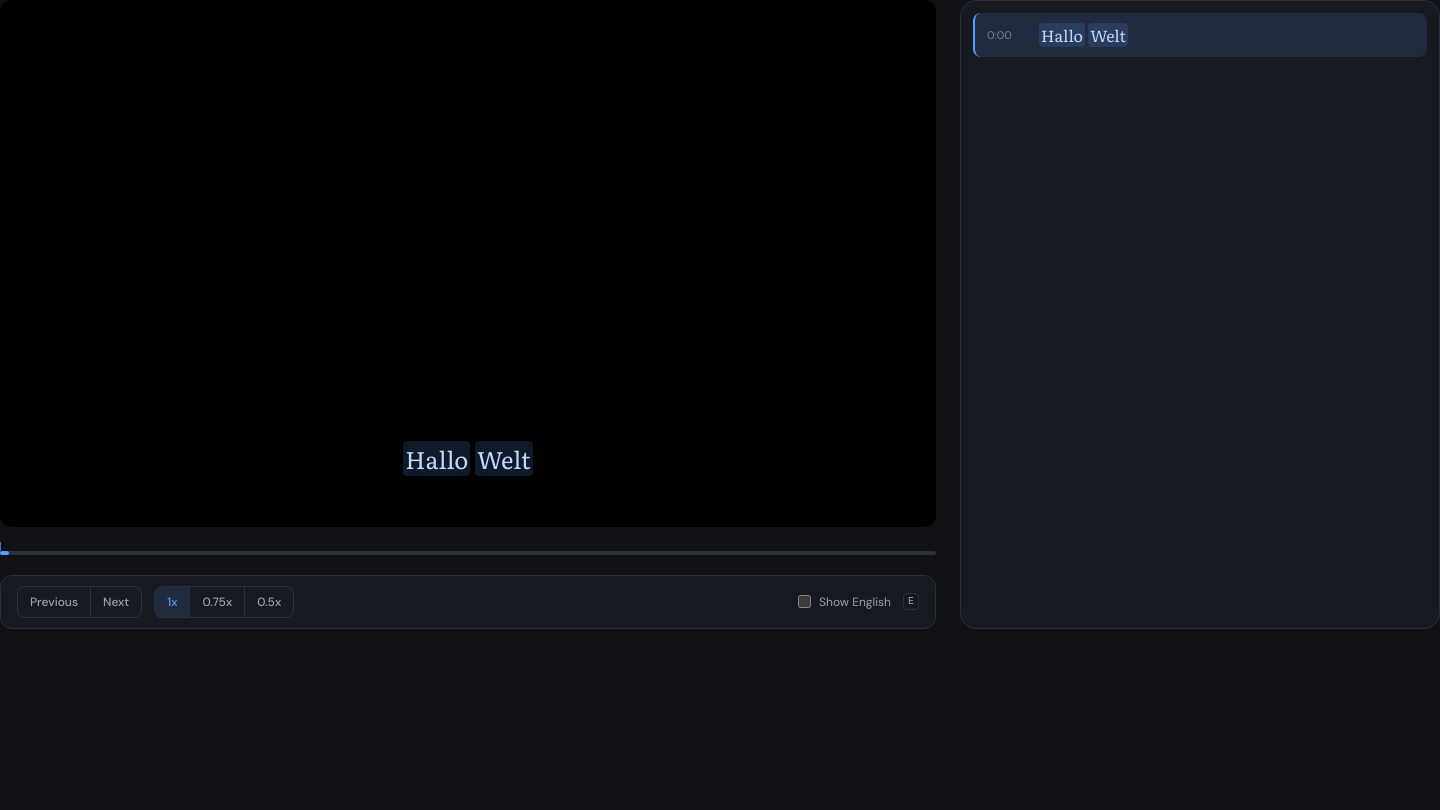
Scenario: video overlay › the card sits on the video and closes with × or Escape
This screenshot has width=1440, height=810.
Click the 2nd text "Welt" at (504, 458), box x1=475 y1=440 x2=533 y2=476
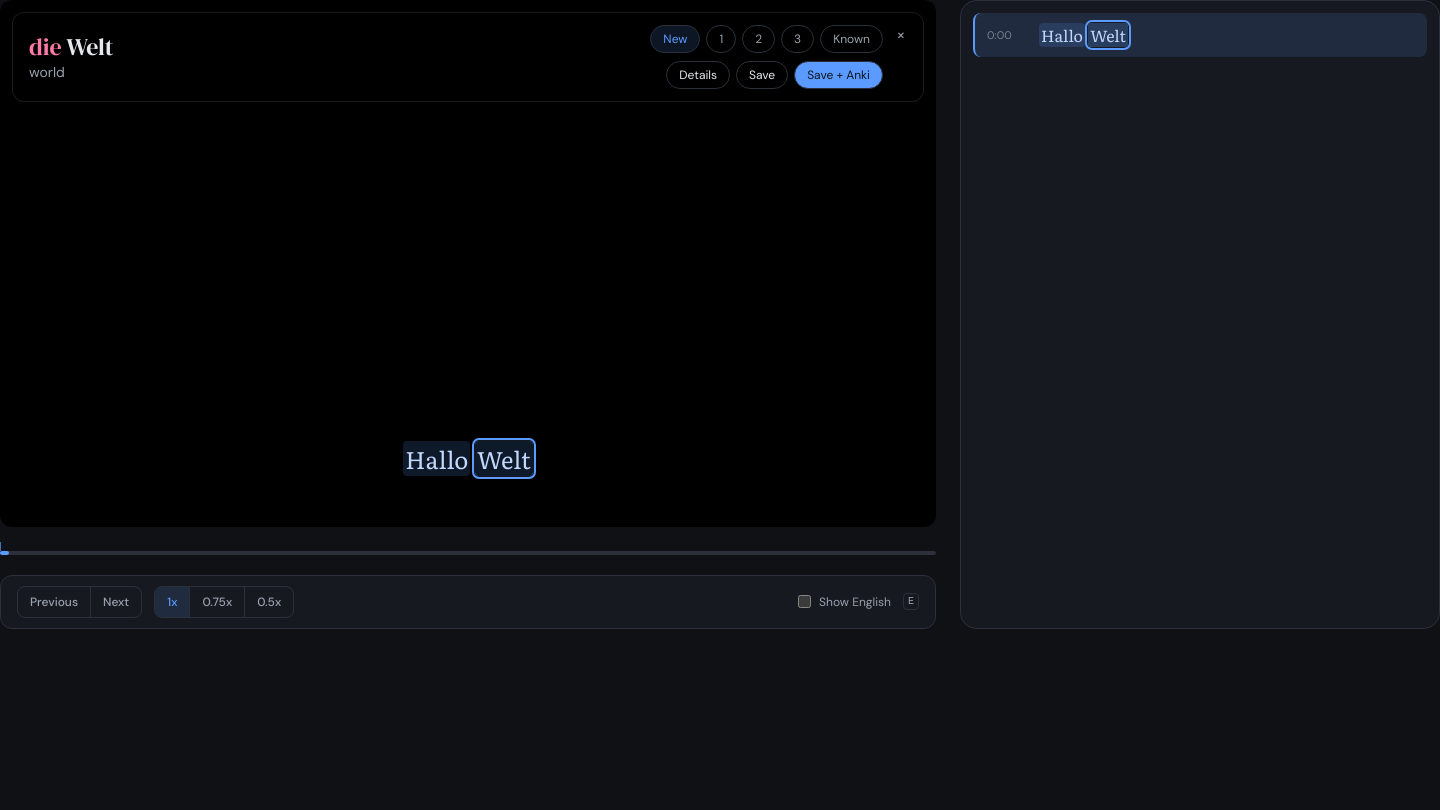
Expected: the element with test id "word-card" is shown, x1=0 y1=0 x2=936 y2=526
Click the button named "Close word card" at (901, 35), box x1=887 y1=21 x2=915 y2=49
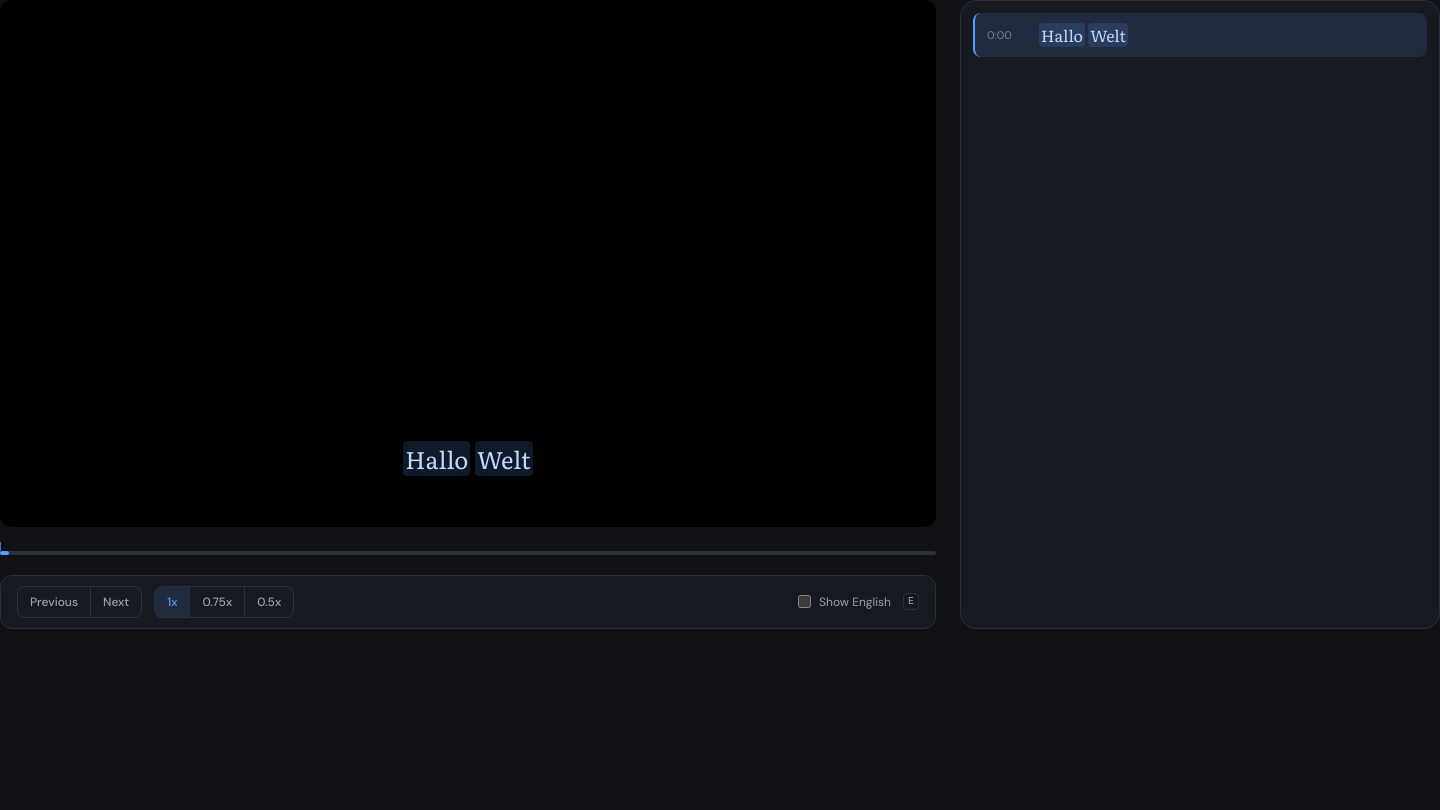
Now the element with test id "word-card" is gone
Click the 2nd text "Welt" at (504, 458), box x1=475 y1=440 x2=533 y2=476
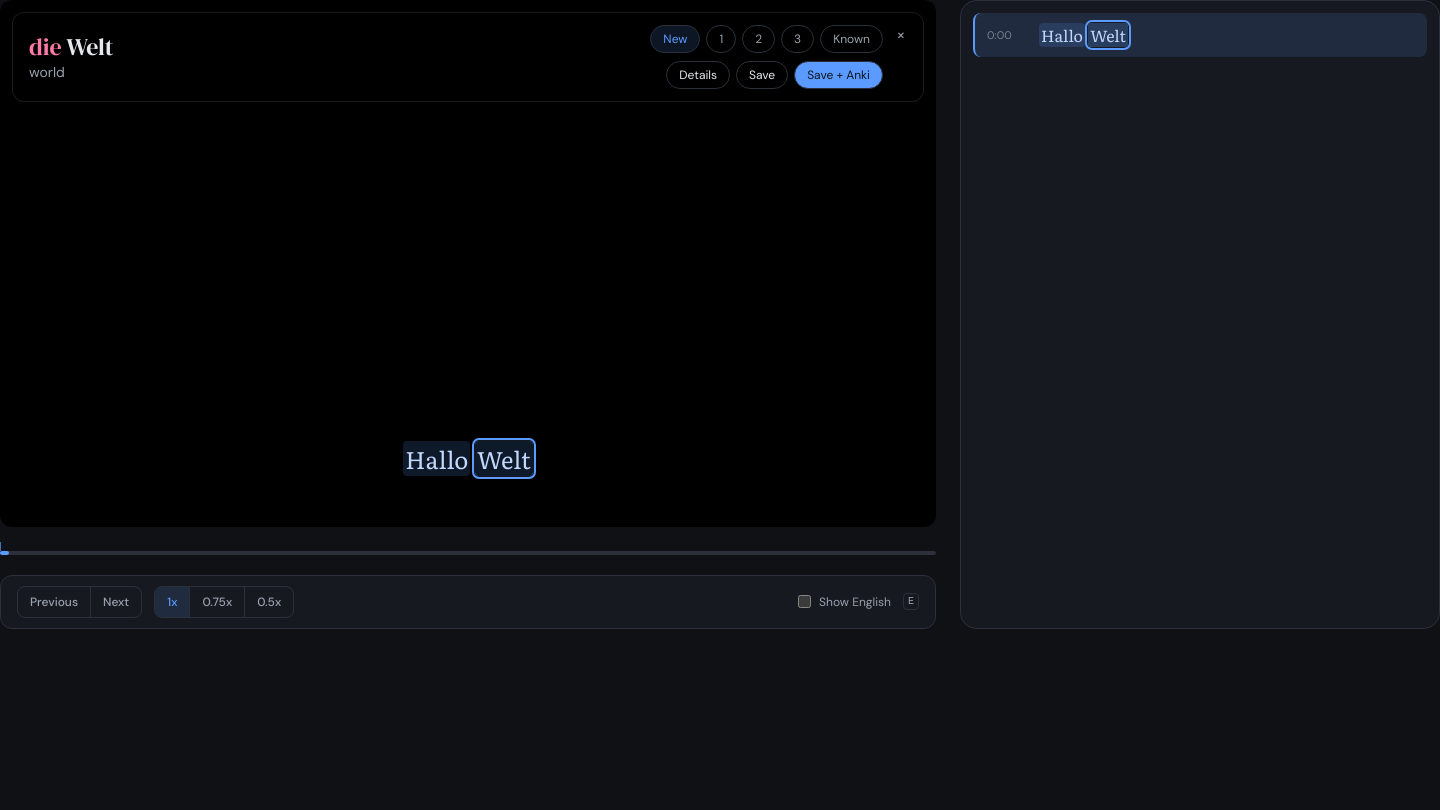
Press Escape
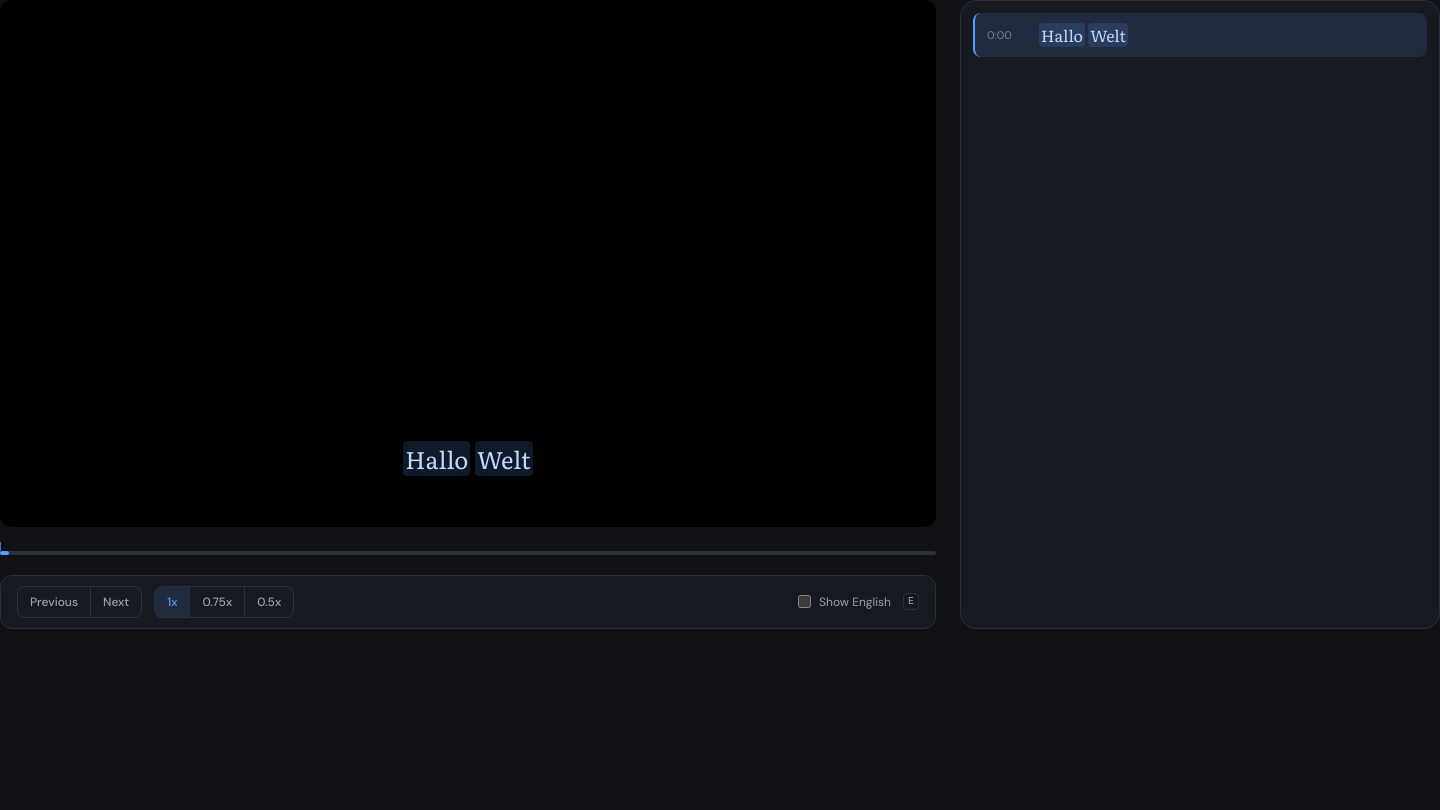
Now the element with test id "word-card" is gone
